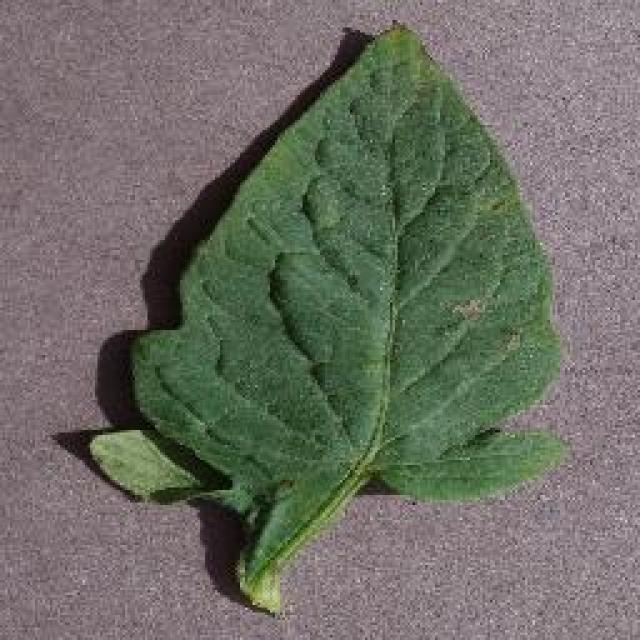Tomato___Target_Spot: (90, 25, 560, 612)
